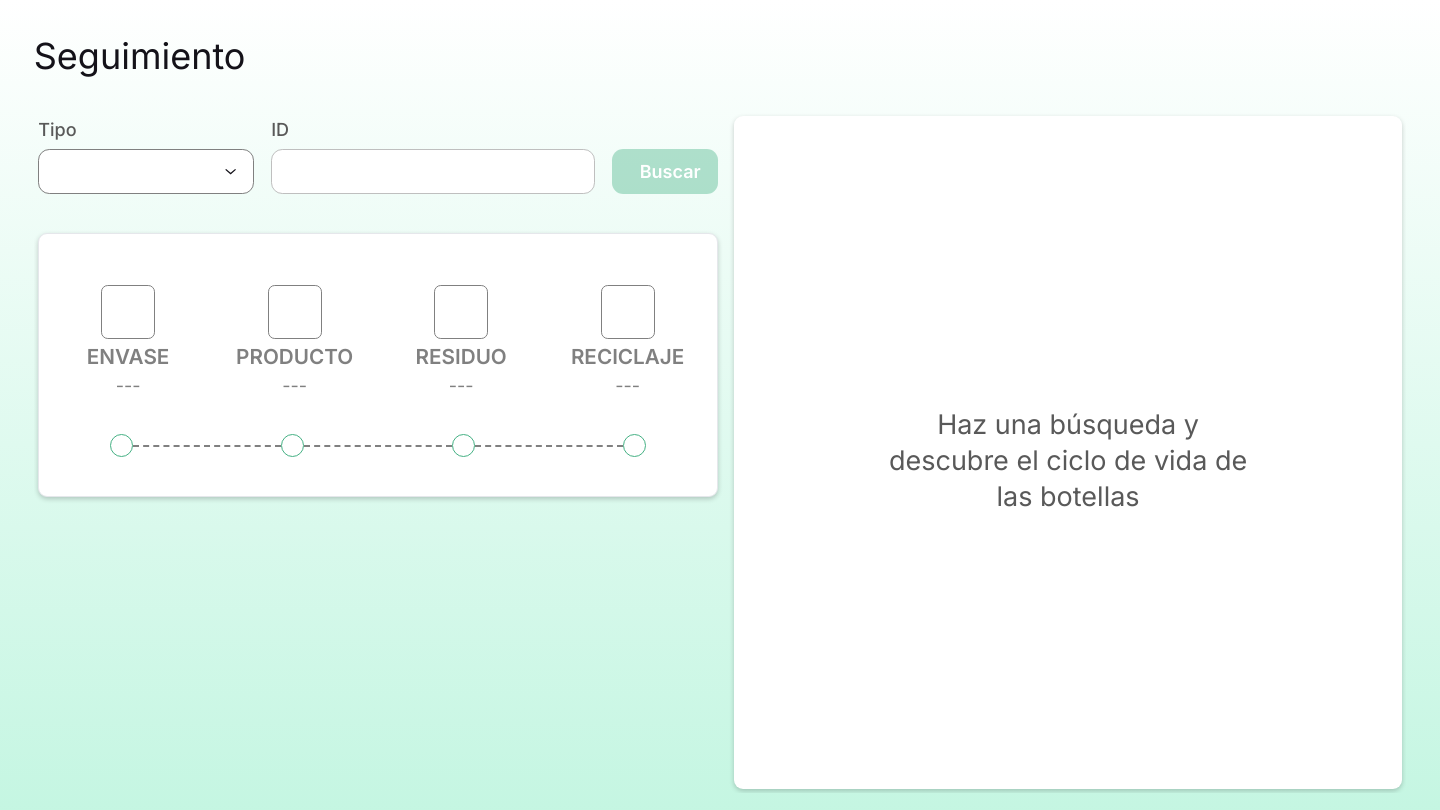
Test case: Tracking Page › enables the ID input when a type is selected
What coordinates should you click on to do the following:
click the button with test id "dropdown"
I would click on:
 (146, 171)
Its box is top-left (38, 149), bottom-right (254, 194).
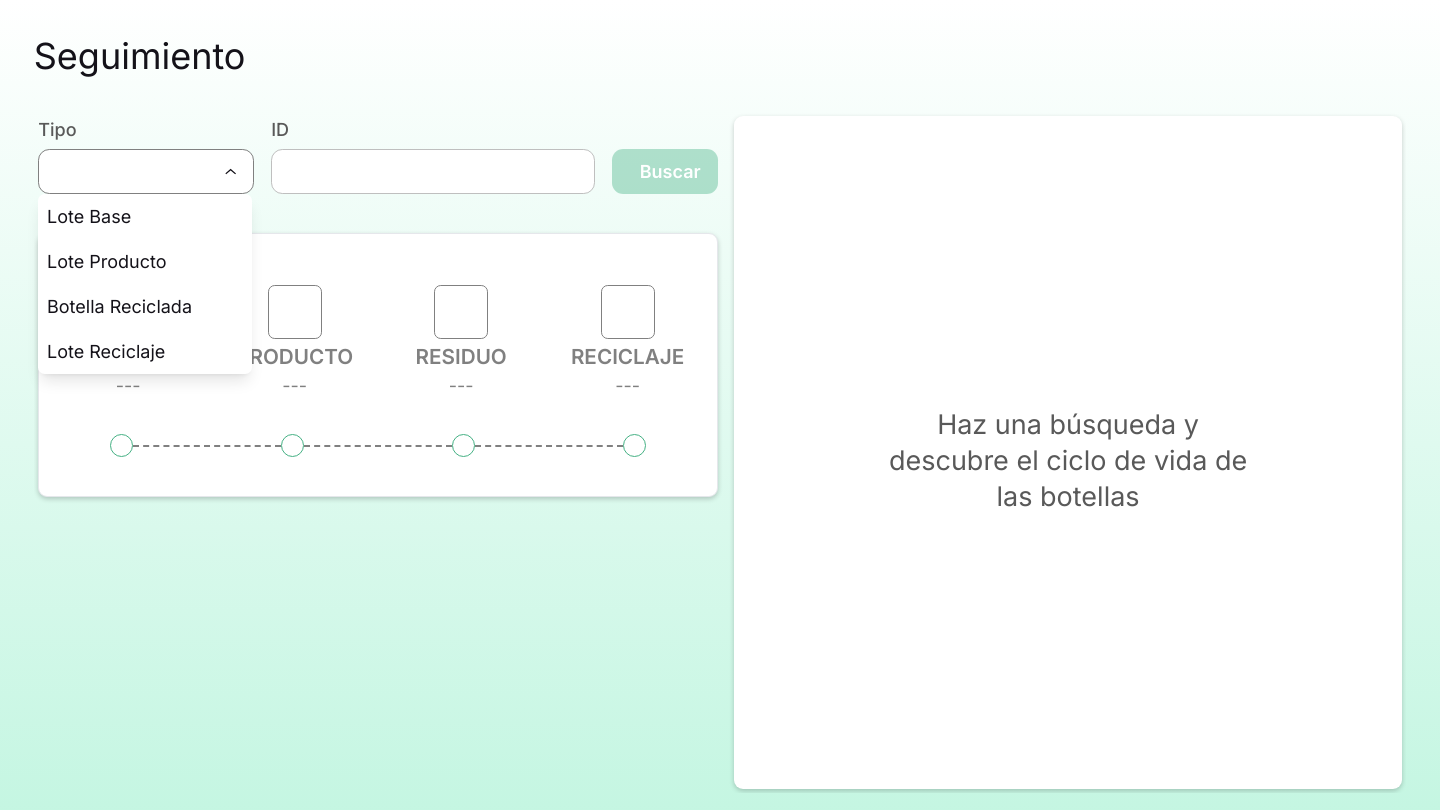
What coordinates should you click on to do the following:
click the text "Lote Base"
I would click on:
 (89, 216)
Its box is top-left (47, 206), bottom-right (131, 227).
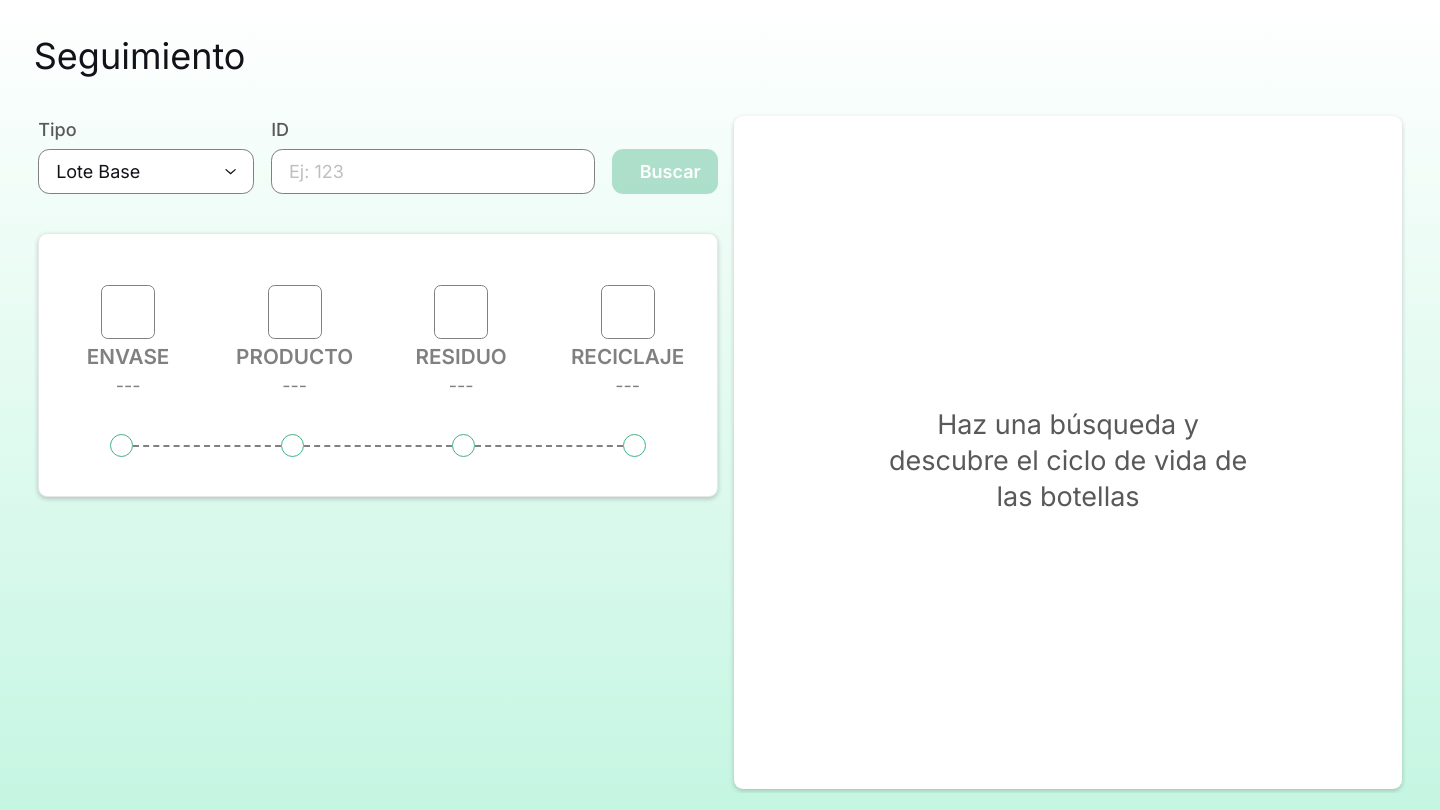
Now the field with test id "input" is enabled, box top-left (271, 149), bottom-right (595, 194)
